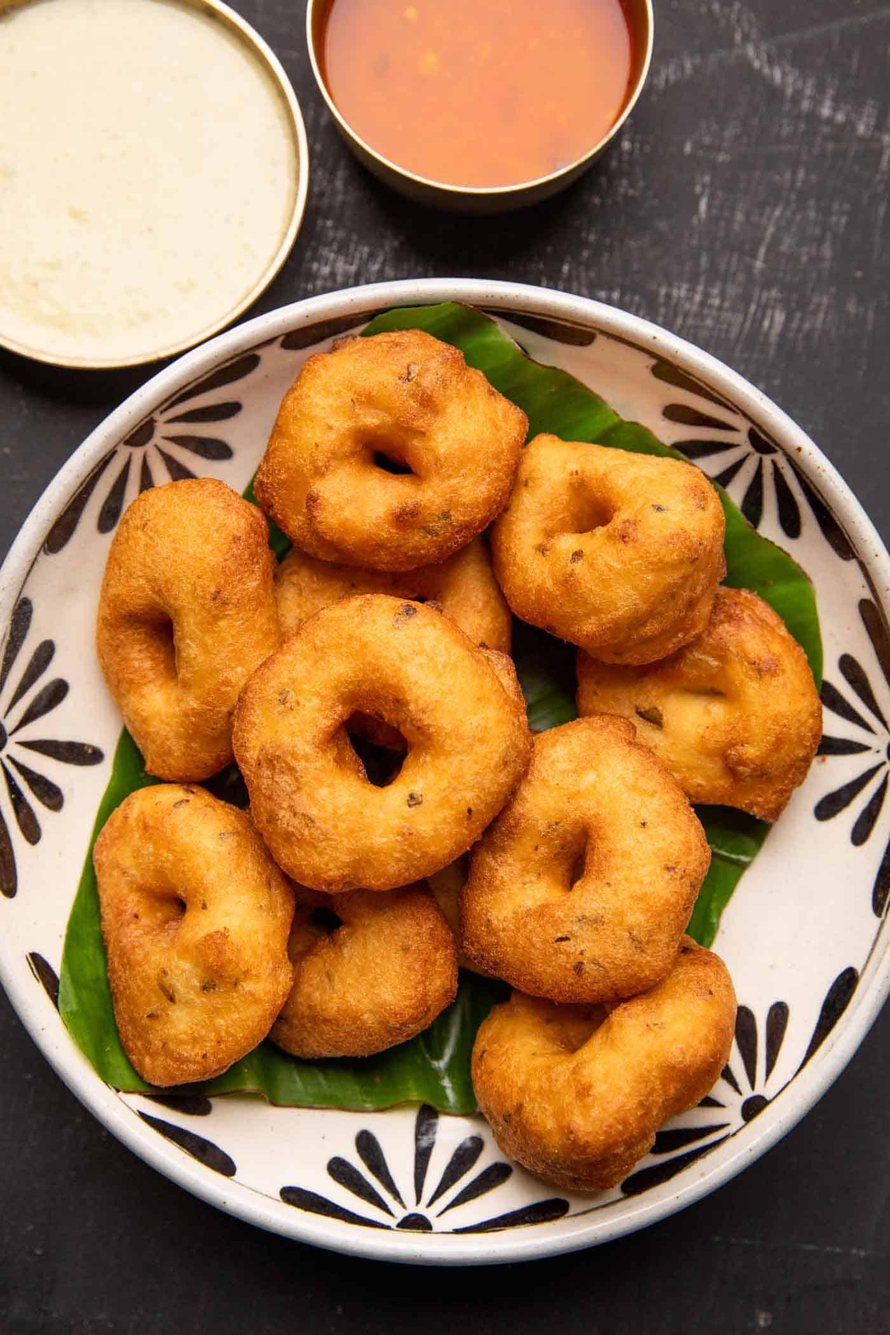mvada: (161, 479, 696, 1046)
